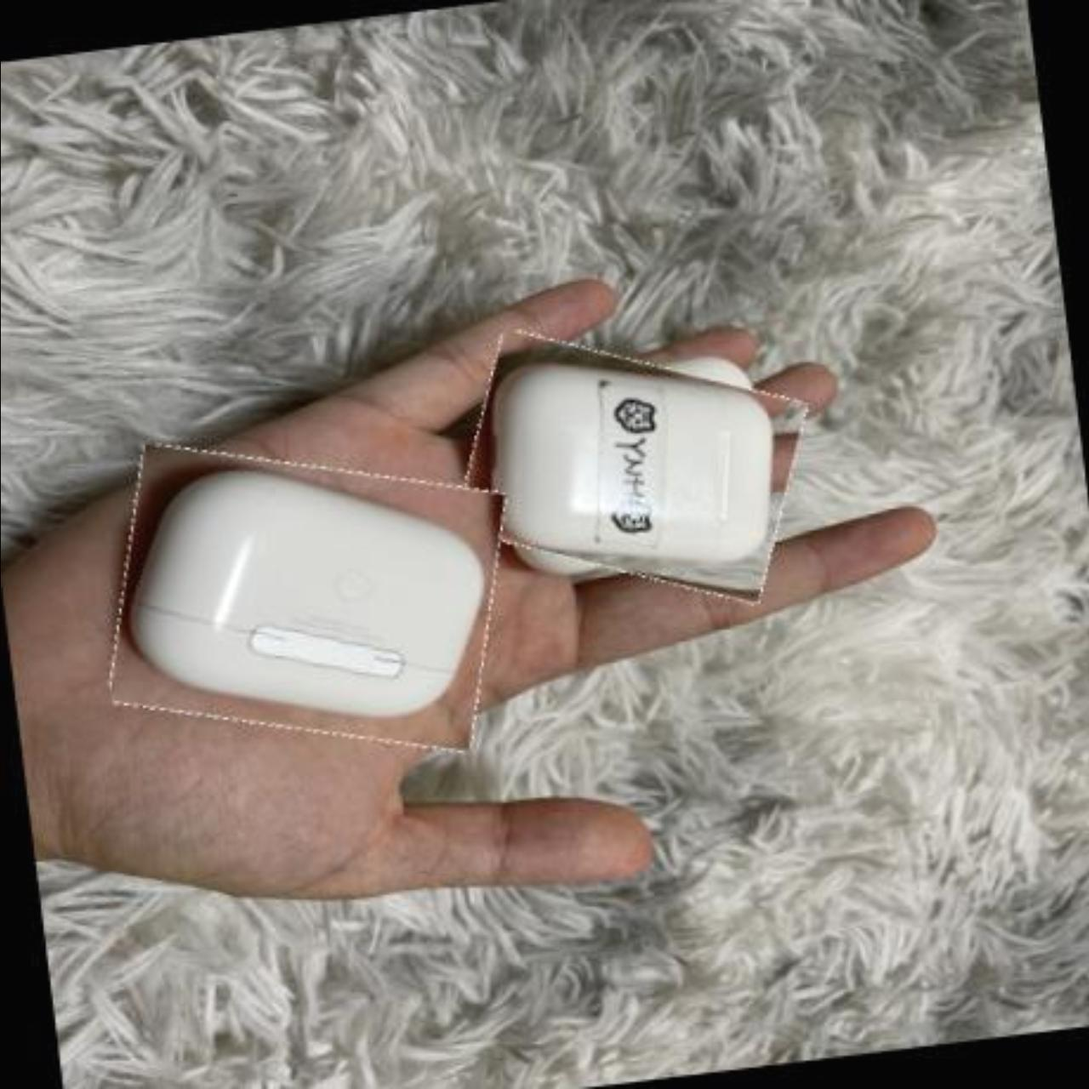AirPods: (93, 424, 518, 772), (446, 319, 813, 613)
